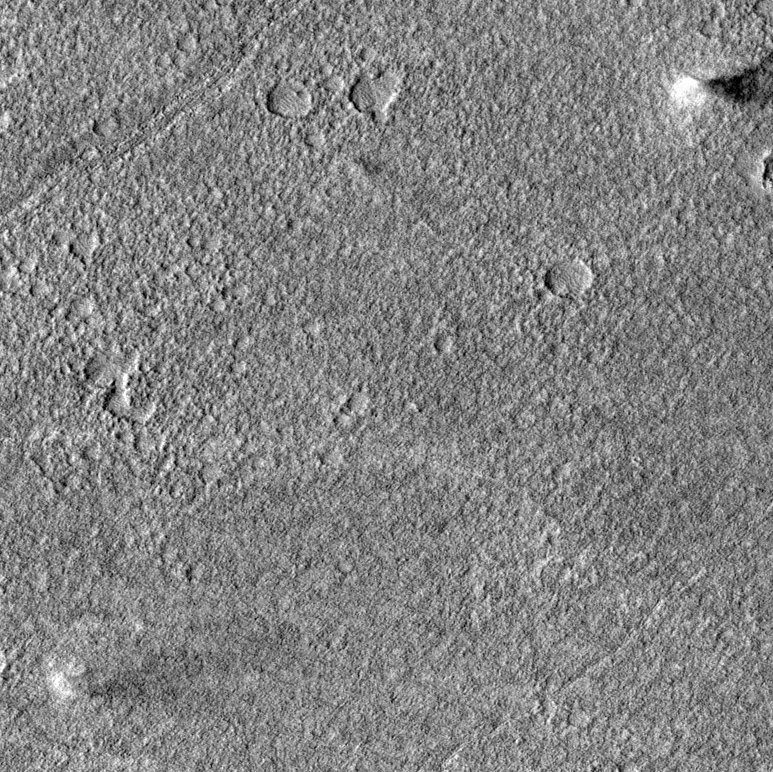dust_devil: (49, 649, 181, 706), (665, 46, 773, 114)
